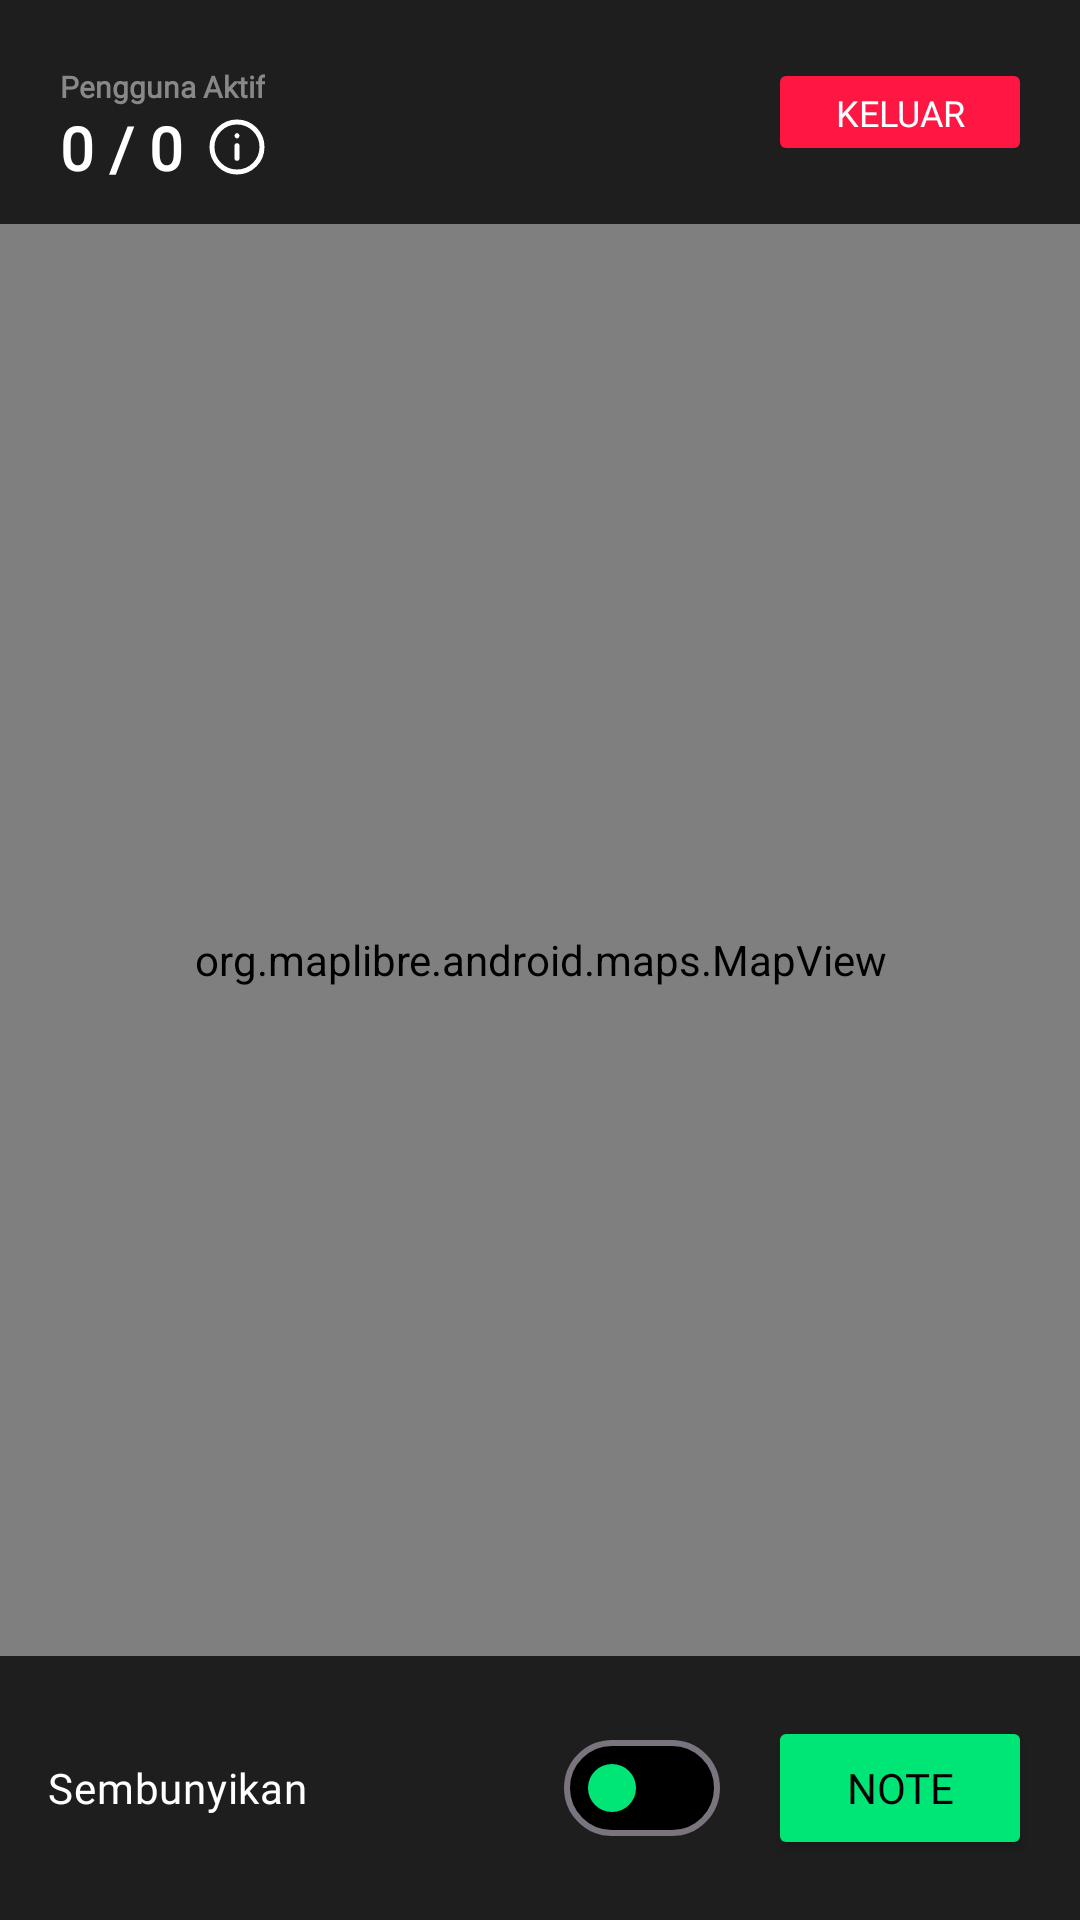

Point at icon controls on the screen. Image size 1080 × 1920, points as (x,y).
info circle: (237,147)
